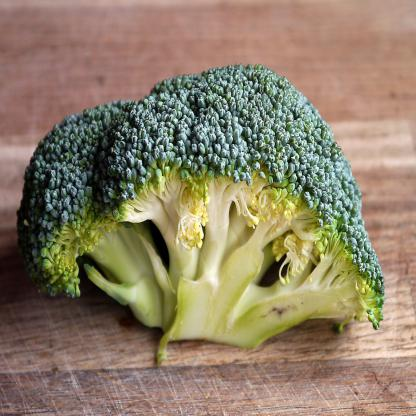broccoli: (17, 62, 382, 345)
